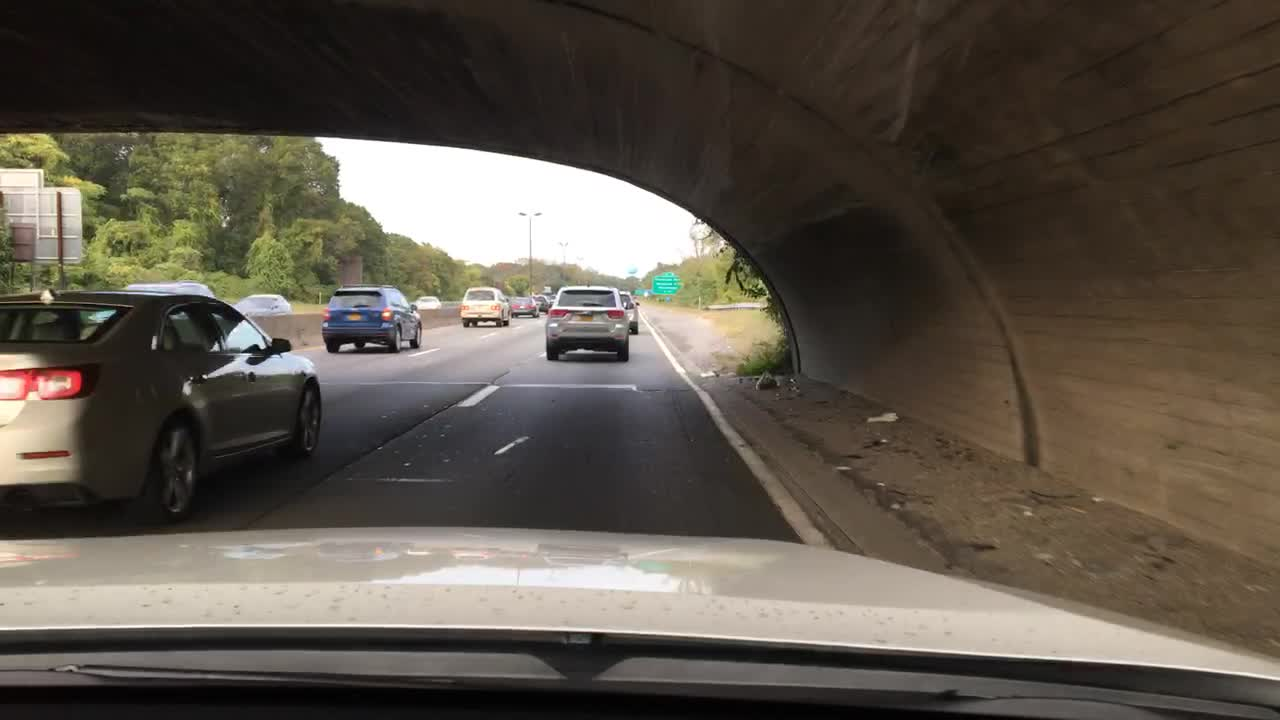car: (0, 290, 323, 522), (318, 286, 426, 353), (544, 283, 630, 364), (460, 286, 512, 329), (120, 279, 216, 296), (616, 289, 641, 330), (235, 295, 289, 313), (507, 295, 536, 316), (411, 295, 441, 307), (533, 292, 549, 309), (543, 290, 558, 303)
traffic sign: (0, 190, 82, 263), (0, 169, 42, 187), (653, 270, 682, 295), (635, 289, 647, 295)
